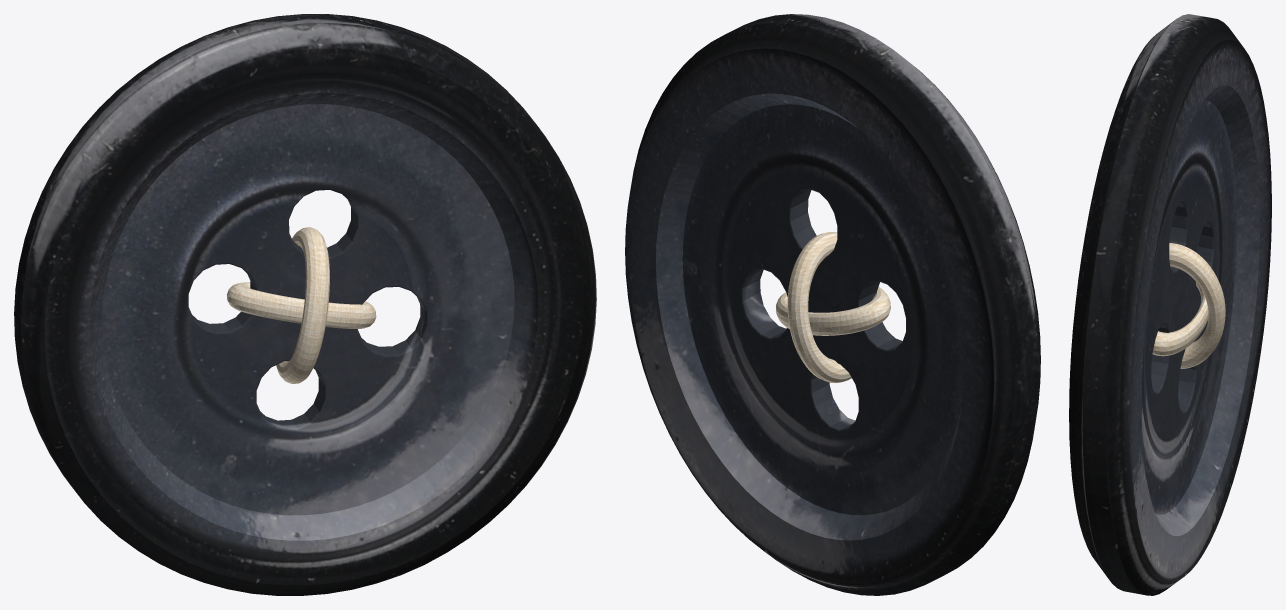
The model's file is Button.glb.
The picture shows the model from 3 angles, left to right: view 1: azimuth 30°, elevation 25°; view 2: azimuth 150°, elevation 25°; view 3: azimuth 270°, elevation 25°; orthographic projection. The views are drawn at different scales.
Parts seen in each view (by area): view 1: Buttons; view 2: Buttons; view 3: Buttons.
Boxes of the visible parts, bbox=[...] form: Buttons: bbox=[14, 14, 596, 595]; Buttons: bbox=[625, 14, 1040, 595]; Buttons: bbox=[1069, 14, 1271, 595].
Bounding box in the file's own units: 0.00198 × 0.00219 × 0.000766.
Materials: 2 (2 with a texture image).
